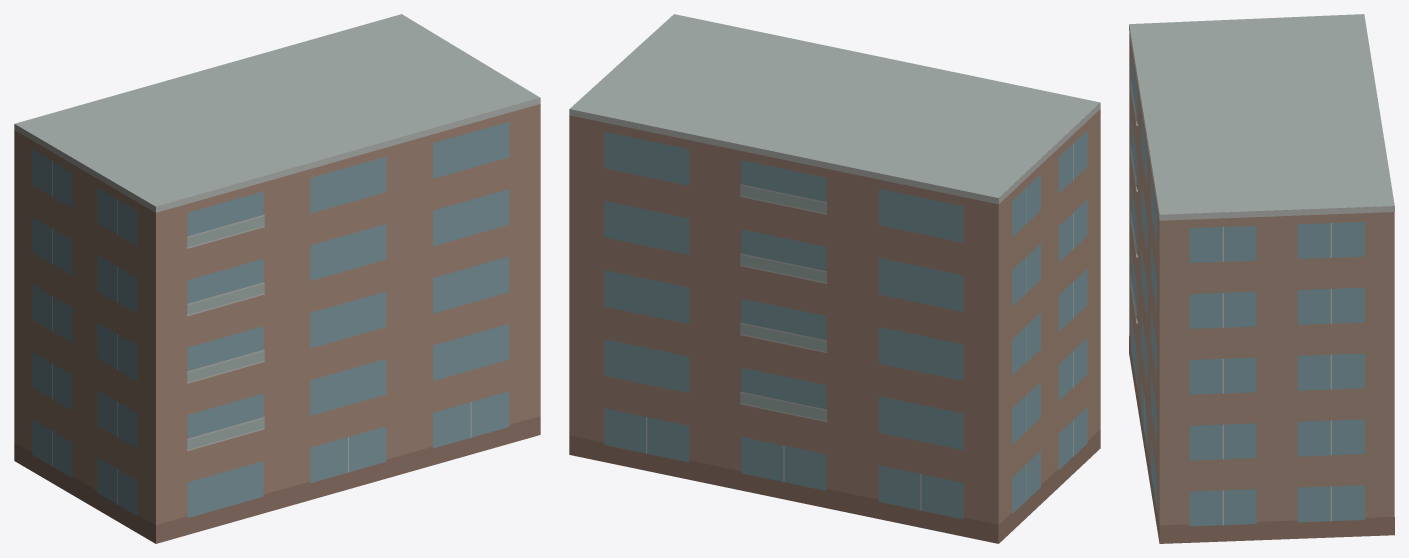
The model's file is survey-upis-32757106.glb.
The picture shows the model from 3 angles, left to right: view 1: azimuth 30°, elevation 25°; view 2: azimuth 150°, elevation 25°; view 3: azimuth 270°, elevation 25°; orthographic projection. The views are drawn at different scales.
Parts seen in each view (by area): view 1: survey-upis-32757106.tmp; view 2: survey-upis-32757106.tmp; view 3: survey-upis-32757106.tmp.
Part boxes in pixels (x1,y1,x2,y2): survey-upis-32757106.tmp: (14,14,540,543); survey-upis-32757106.tmp: (569,14,1100,543); survey-upis-32757106.tmp: (1129,14,1394,543).
Size of the model in its own units: 17.54 by 13.4 by 9.81.
